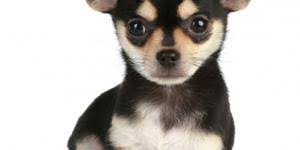chihuahua: (64, 1, 252, 150)
